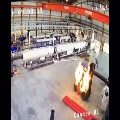fire: (75, 62, 90, 93)
